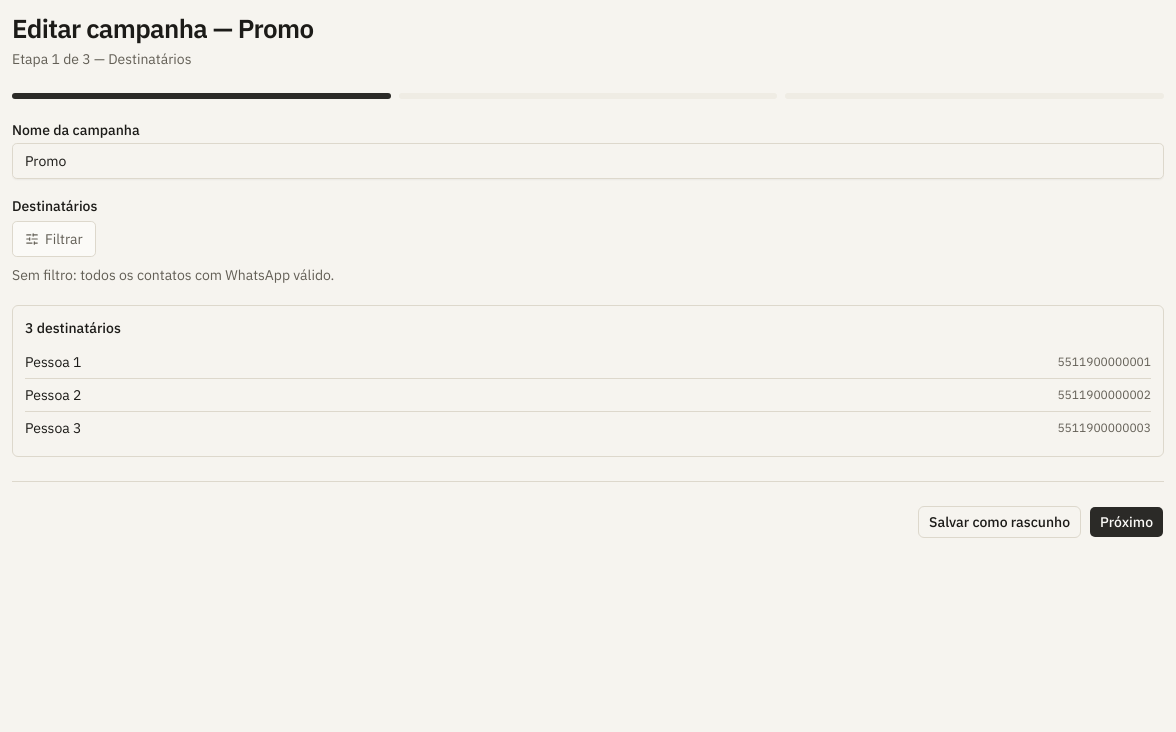
it: B54-05 — variáveis, arquivo e prévia do template na campanha › CA-B54-20: should esconder o aviso das 24h no tipo Template e trazê-lo de volta no Texto
Expected: the text "3 destinatários" is shown, x1=25 y1=318 x2=121 y2=338
Click the button "Próximo". click: coordinates (1126, 522)
box: x1=1089 y1=506 x2=1164 y2=538
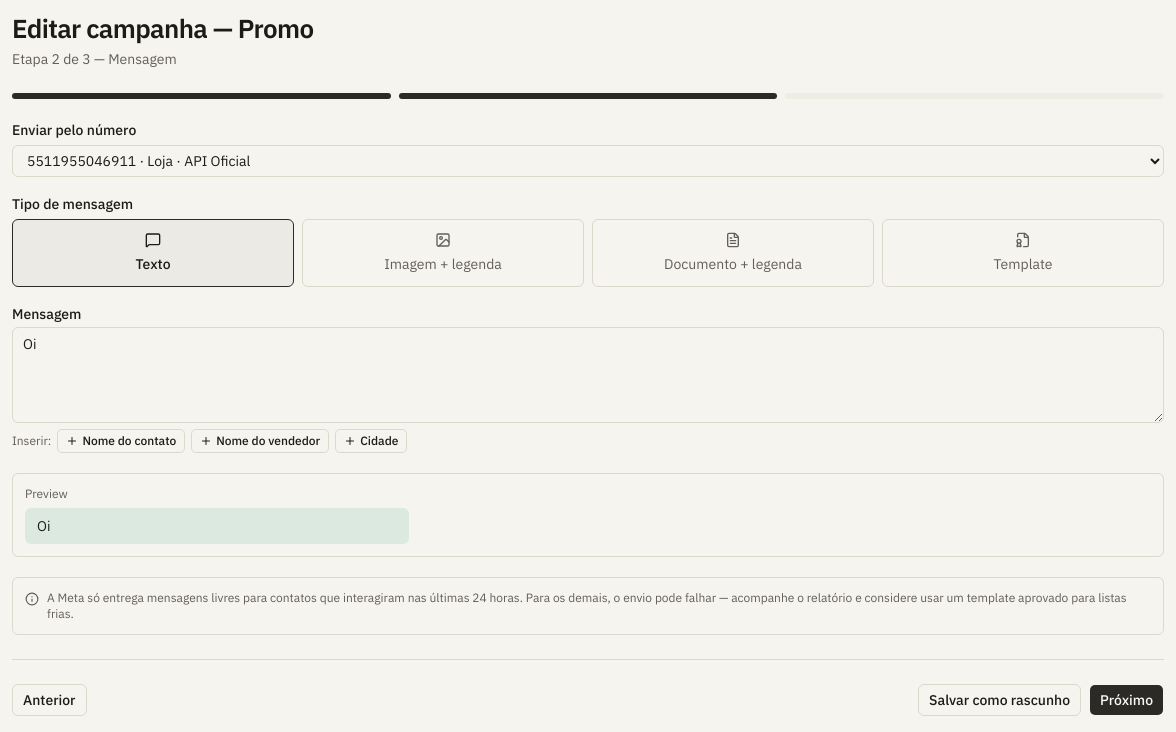
Now the text "Tipo de mensagem" is shown, box x1=12 y1=194 x2=133 y2=212
Now the text "A Meta só entrega mensagens livres para contatos que interagiram nas últimas 24" is shown, box x1=47 y1=590 x2=1127 y2=620
Click the button "Template". click: coordinates (1023, 252)
box: x1=882 y1=218 x2=1164 y2=286
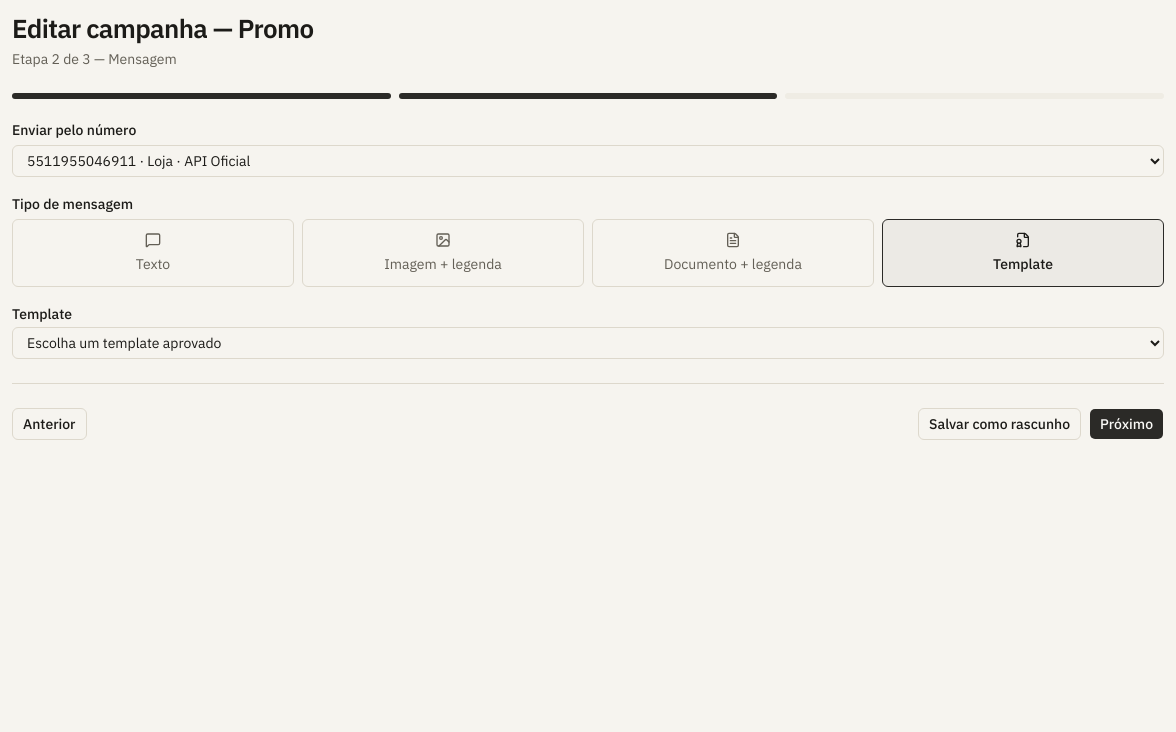
Now the dropdown labelled "Template" is shown, box x1=12 y1=326 x2=1164 y2=358
Now the text "A Meta só entrega mensagens livres para contatos que interagiram nas últimas 24" is gone
Click the button "Texto". click: coordinates (153, 252)
box: x1=12 y1=218 x2=294 y2=286
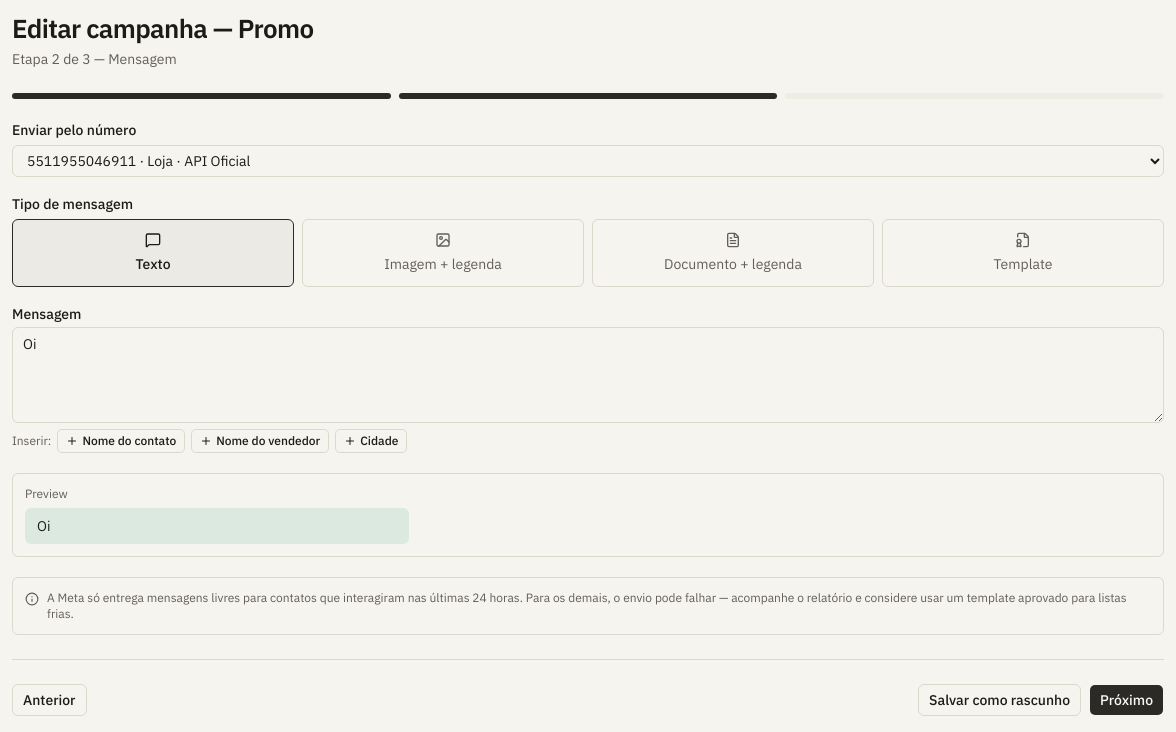
Now the text "A Meta só entrega mensagens livres para contatos que interagiram nas últimas 24" is shown, box x1=47 y1=590 x2=1127 y2=620
